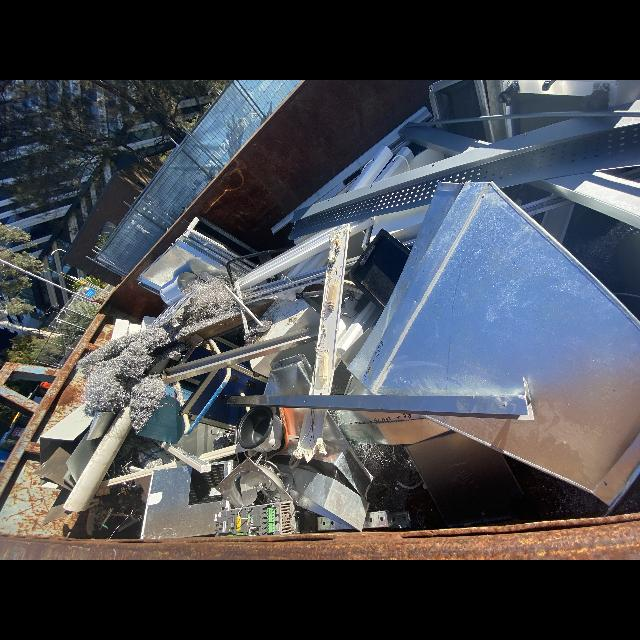Aluminium: (78, 278, 240, 433), (63, 407, 131, 512), (242, 271, 326, 304), (250, 340, 318, 378), (348, 440, 416, 478), (242, 266, 327, 296), (262, 298, 321, 340), (100, 460, 190, 487), (336, 301, 381, 355), (236, 406, 282, 452), (225, 285, 263, 327), (159, 442, 211, 472), (85, 411, 116, 440), (196, 444, 242, 461), (111, 319, 146, 339), (213, 433, 232, 451), (244, 322, 259, 344), (168, 385, 183, 406), (391, 141, 411, 155), (346, 255, 361, 268), (236, 288, 242, 301)
Ferrous Metal: (288, 115, 640, 240), (271, 106, 431, 234), (162, 327, 319, 385), (236, 226, 341, 292), (179, 363, 269, 436), (528, 171, 640, 229), (310, 226, 348, 395), (346, 228, 411, 311), (215, 458, 297, 508), (412, 112, 640, 125), (399, 125, 491, 155), (370, 203, 430, 247), (227, 247, 294, 284), (137, 395, 185, 445), (347, 146, 392, 192), (63, 436, 101, 489), (41, 404, 94, 440), (294, 411, 328, 462), (32, 447, 70, 489), (160, 272, 198, 306), (372, 157, 408, 184), (257, 463, 286, 491), (409, 148, 444, 170), (234, 471, 250, 498), (396, 147, 415, 164), (257, 317, 272, 332), (211, 339, 221, 354), (131, 509, 141, 521), (259, 254, 271, 263), (259, 336, 265, 342)
Galvanized Steel: (347, 182, 640, 507), (221, 376, 534, 421), (406, 430, 523, 527), (140, 461, 267, 539), (136, 216, 260, 295), (273, 463, 369, 530), (312, 410, 373, 498), (335, 411, 449, 444), (429, 80, 489, 121), (264, 354, 313, 395), (148, 290, 197, 328), (436, 119, 511, 143), (267, 501, 300, 535), (363, 511, 410, 528), (486, 80, 507, 116), (345, 374, 370, 395), (317, 517, 349, 531), (240, 304, 249, 334), (235, 282, 242, 299), (236, 288, 243, 303)
